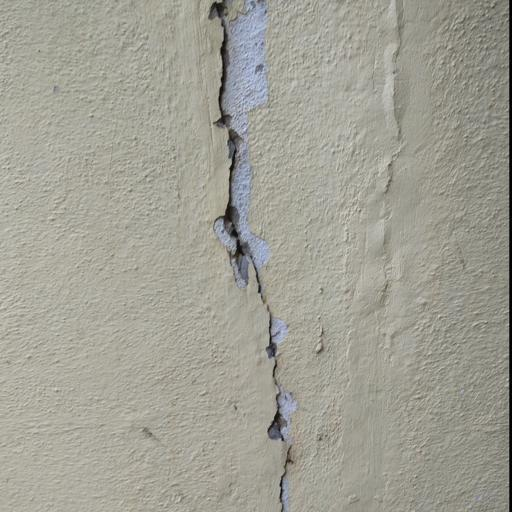peeling: (176, 3, 320, 512)
